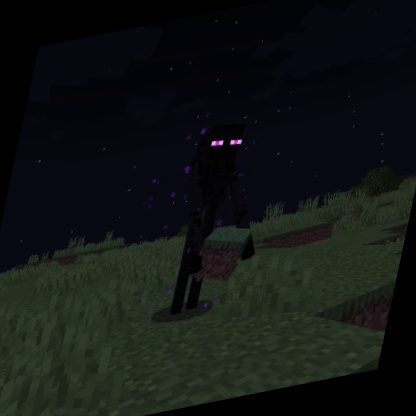enderman: (152, 107, 288, 323)
